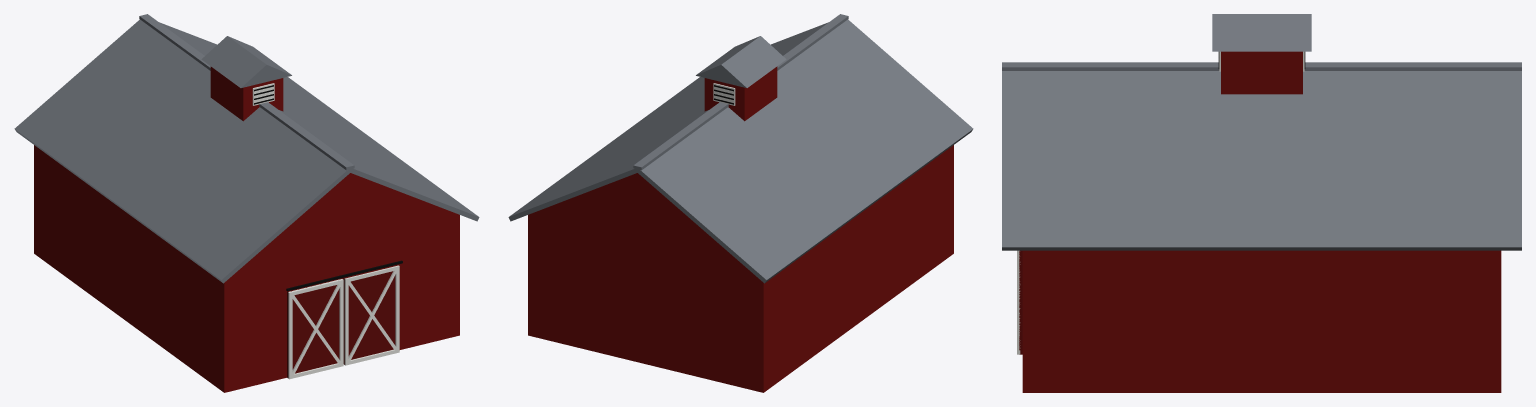
Rendered from Granero.obj.
3 renders of one model, left to right at view 1: azimuth 30°, elevation 25°; view 2: azimuth 150°, elevation 25°; view 3: azimuth 270°, elevation 25°, orthographic. The views are drawn at different scales.
Parts seen in each view (by area): view 1: Granero_Cuerpo_Granero_Rojo, Techo_Izq_Granero_Techo_Metal, Techo_Der_Granero_Techo_Metal, Puerta_Der_Panel_Granero_Rojo_Puerta, Puerta_Izq_Panel_Granero_Rojo_Puerta, Cupula_Techo_Granero_Techo_Metal, Cupula_Cuerpo_Granero_Rojo, Techo_Cumbrera_Granero_Techo_Metal, Puerta_Riel_Granero_Oscuro, Puerta_Izq_Marco_Izq_Granero_Blanco, Puerta_Izq_Diag_A_Granero_Blanco, Puerta_Der_Marco_Izq_Granero_Blanco (+3 smaller); view 2: Granero_Cuerpo_Granero_Rojo, Techo_Izq_Granero_Techo_Metal, Techo_Der_Granero_Techo_Metal, Cupula_Techo_Granero_Techo_Metal, Cupula_Cuerpo_Granero_Rojo, Techo_Cumbrera_Granero_Techo_Metal; view 3: Techo_Der_Granero_Techo_Metal, Granero_Cuerpo_Granero_Rojo, Techo_Cumbrera_Granero_Techo_Metal, Cupula_Techo_Granero_Techo_Metal, Cupula_Cuerpo_Granero_Rojo.
Part boxes in pixels (x1=…): Granero_Cuerpo_Granero_Rojo: x1=34, y1=145, x2=459, y2=392; Techo_Izq_Granero_Techo_Metal: x1=14, y1=19, x2=352, y2=283; Techo_Der_Granero_Techo_Metal: x1=159, y1=22, x2=479, y2=221; Puerta_Der_Panel_Granero_Rojo_Puerta: x1=343, y1=264, x2=398, y2=364; Puerta_Izq_Panel_Granero_Rojo_Puerta: x1=287, y1=278, x2=341, y2=377; Cupula_Techo_Granero_Techo_Metal: x1=201, y1=36, x2=291, y2=87; Cupula_Cuerpo_Granero_Rojo: x1=210, y1=66, x2=283, y2=121; Techo_Cumbrera_Granero_Techo_Metal: x1=139, y1=14, x2=354, y2=170; Puerta_Riel_Granero_Oscuro: x1=286, y1=260, x2=402, y2=291; Puerta_Izq_Marco_Izq_Granero_Blanco: x1=288, y1=292, x2=292, y2=378; Puerta_Izq_Diag_A_Granero_Blanco: x1=292, y1=283, x2=340, y2=374; Puerta_Der_Marco_Izq_Granero_Blanco: x1=344, y1=278, x2=348, y2=364; Granero_Cuerpo_Granero_Rojo: x1=528, y1=145, x2=953, y2=392; Techo_Izq_Granero_Techo_Metal: x1=635, y1=19, x2=973, y2=283; Techo_Der_Granero_Techo_Metal: x1=508, y1=22, x2=828, y2=221; Cupula_Techo_Granero_Techo_Metal: x1=696, y1=36, x2=786, y2=87; Cupula_Cuerpo_Granero_Rojo: x1=704, y1=66, x2=777, y2=121; Techo_Cumbrera_Granero_Techo_Metal: x1=633, y1=14, x2=848, y2=170; Techo_Der_Granero_Techo_Metal: x1=1002, y1=71, x2=1521, y2=250; Granero_Cuerpo_Granero_Rojo: x1=1022, y1=250, x2=1501, y2=392; Techo_Cumbrera_Granero_Techo_Metal: x1=1002, y1=62, x2=1521, y2=70; Cupula_Techo_Granero_Techo_Metal: x1=1212, y1=14, x2=1311, y2=51; Cupula_Cuerpo_Granero_Rojo: x1=1221, y1=51, x2=1302, y2=94.
Bounding box in the file's own units: 10.96 × 9.9 × 15.2.
